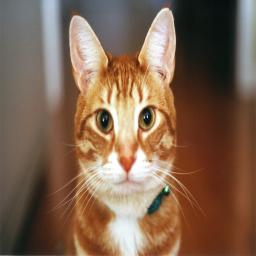catnose: (118, 154, 136, 173)
